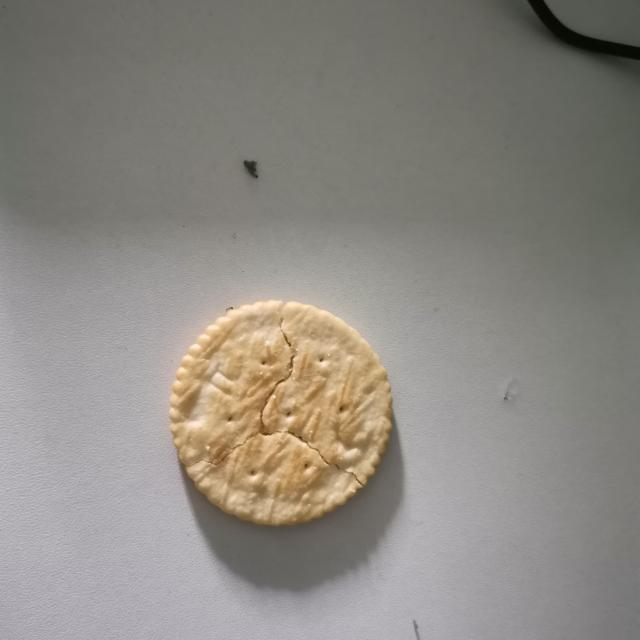Fracture: (179, 301, 370, 493)
